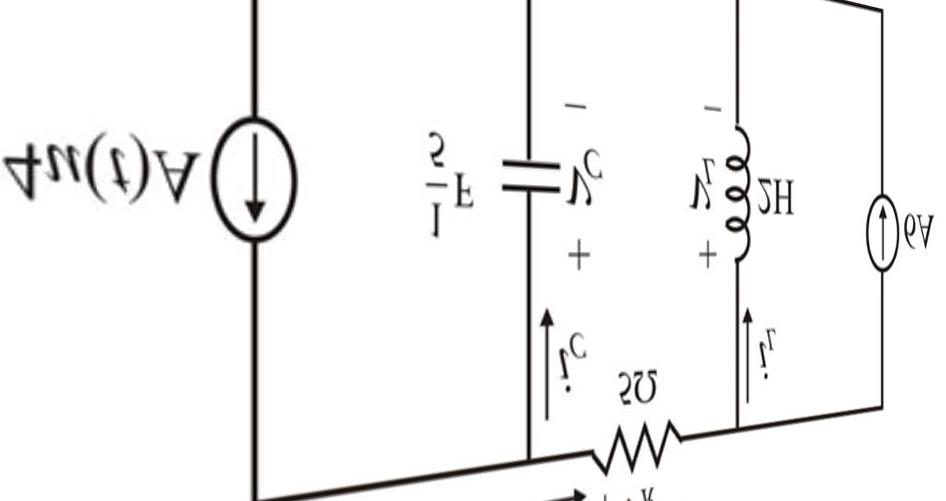resistor: (565, 418, 695, 487)
